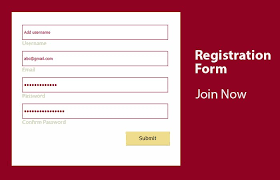Button: (124, 130, 174, 149)
TextBox: (22, 49, 172, 68), (20, 102, 173, 120), (21, 24, 170, 41)
